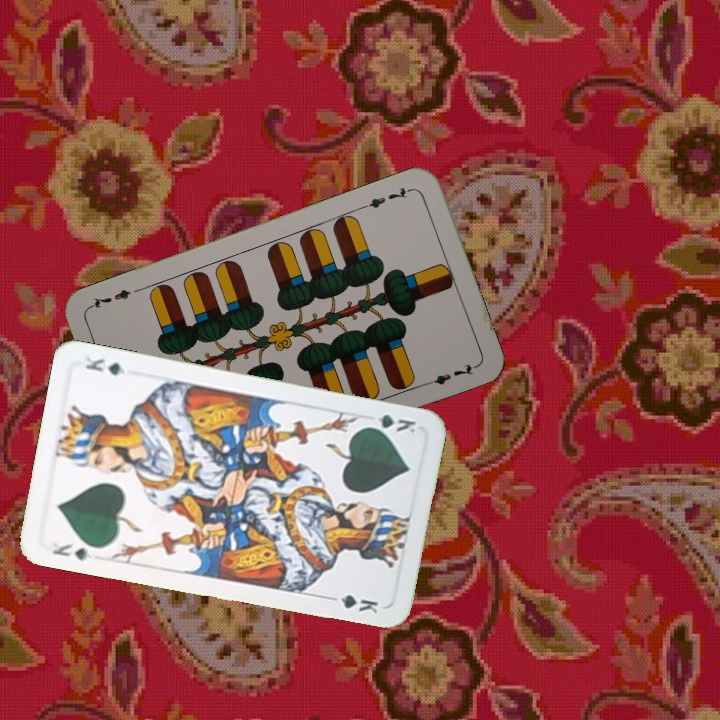E7: (359, 183, 416, 211)
GK: (361, 410, 419, 436), (49, 538, 96, 564)
